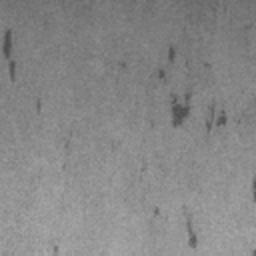Red iron sheet: (182, 205, 198, 249), (3, 29, 16, 82), (170, 93, 190, 127), (216, 110, 227, 126), (168, 45, 176, 63), (50, 240, 59, 256), (158, 69, 167, 83), (36, 98, 42, 114)
